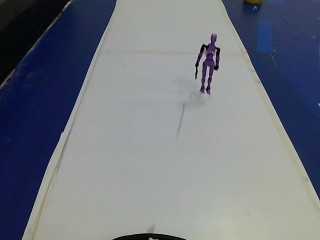pedestrian: (191, 31, 223, 98)
